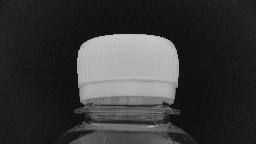Broken Cap: (68, 31, 184, 121)
